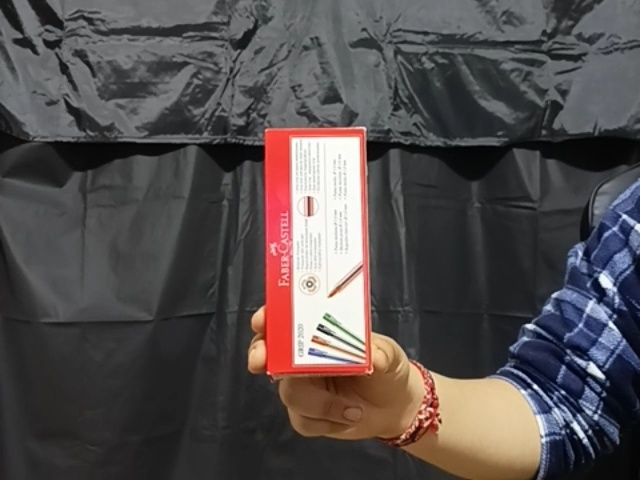xd: (263, 126, 374, 375)
